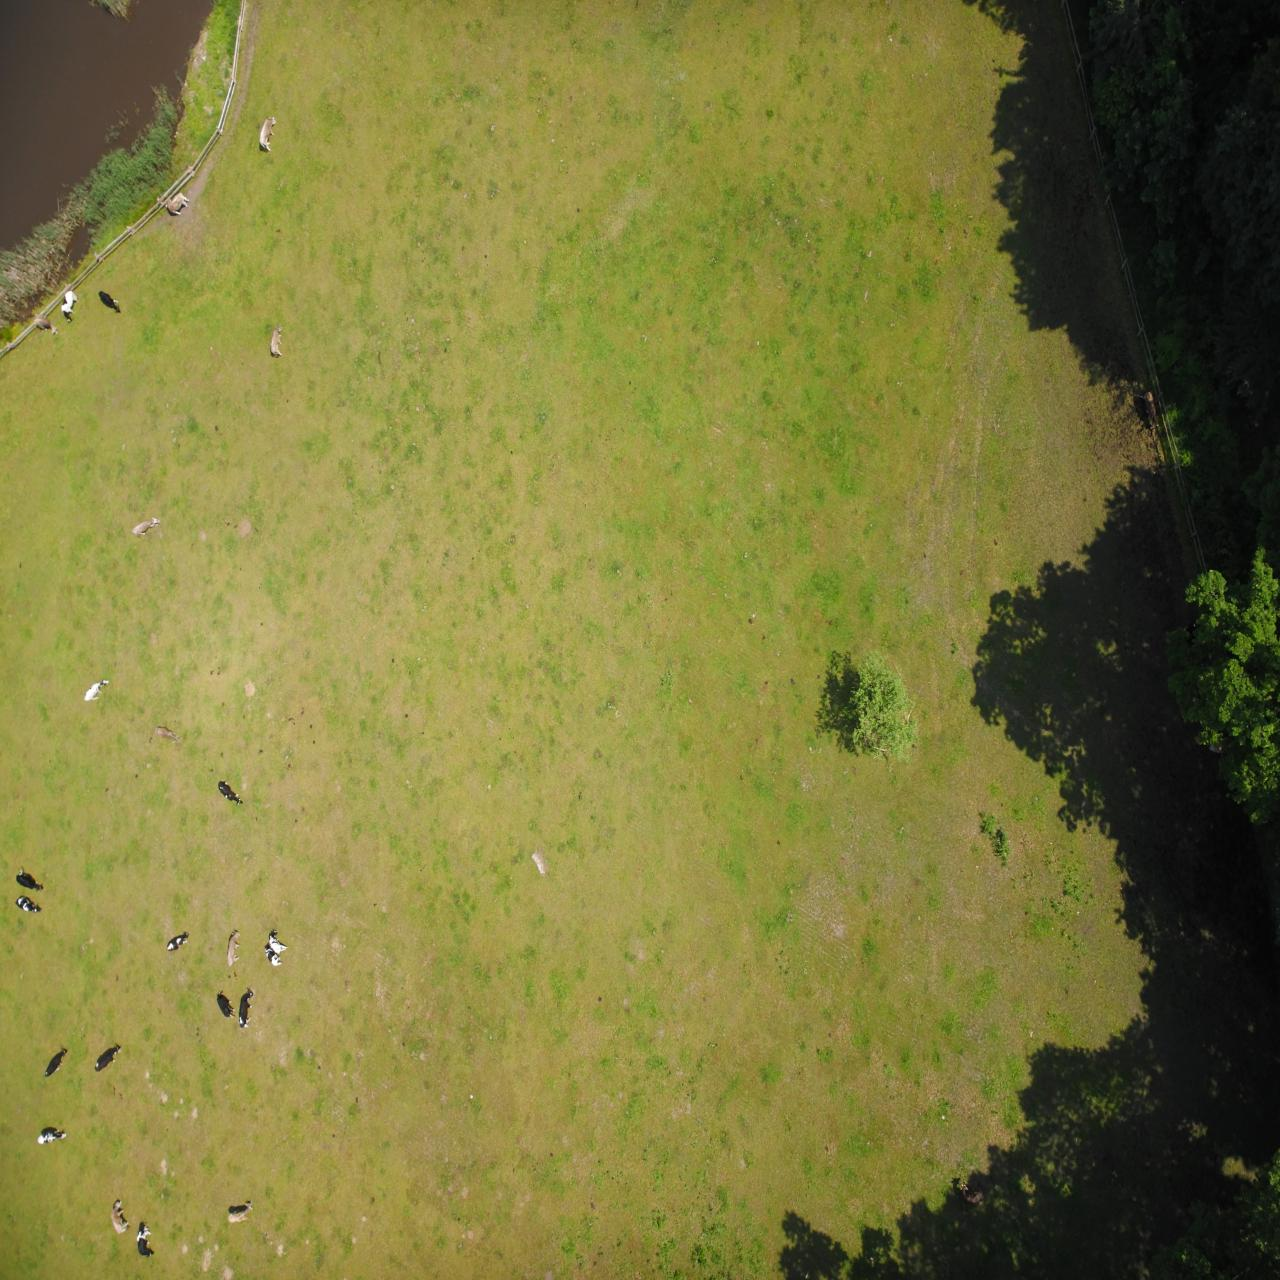cow: (1159, 207, 1185, 236), (1036, 475, 1062, 501), (1212, 203, 1235, 231), (1126, 23, 1143, 62), (1151, 47, 1169, 82), (1237, 388, 1264, 410), (1201, 956, 1219, 989), (1027, 251, 1041, 291), (1005, 1128, 1020, 1164), (1171, 578, 1196, 600), (1028, 57, 1051, 80), (1090, 1065, 1114, 1087), (992, 326, 1012, 350), (1121, 744, 1146, 763), (1091, 328, 1114, 349), (1159, 967, 1182, 988), (1046, 263, 1063, 288), (1239, 367, 1265, 384), (1213, 135, 1242, 150), (1223, 945, 1246, 964), (1040, 313, 1051, 349), (1101, 537, 1125, 553), (998, 313, 1014, 333), (998, 924, 1008, 954)
